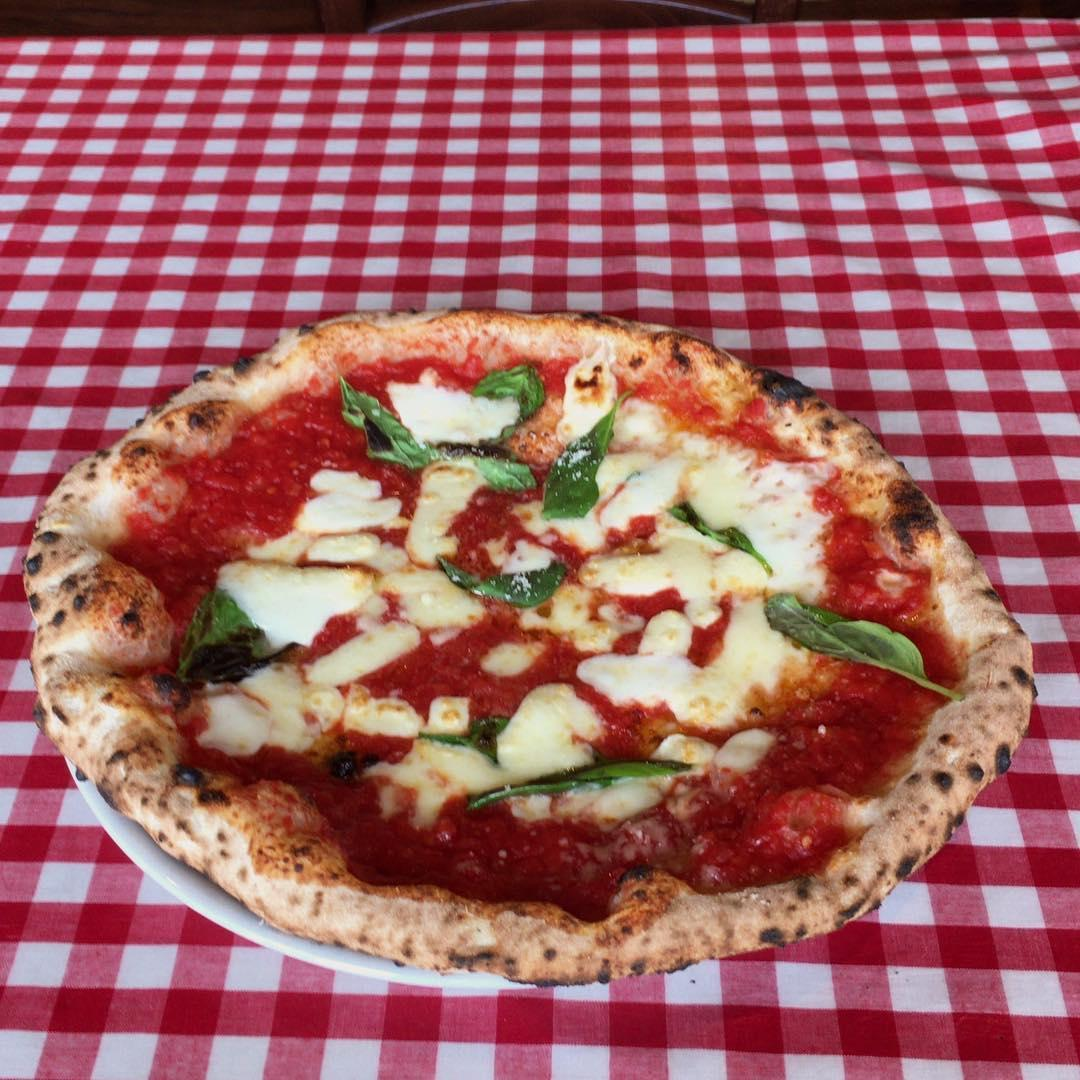Basil: (763, 589, 948, 693), (457, 755, 689, 829), (541, 401, 629, 528), (165, 591, 274, 689), (329, 379, 432, 470), (463, 355, 558, 438), (427, 431, 541, 498), (443, 555, 568, 612), (669, 499, 764, 570), (401, 713, 520, 764)
Cheese: (225, 561, 377, 638), (709, 461, 816, 569), (593, 527, 724, 604), (285, 479, 392, 570), (213, 665, 328, 744), (593, 653, 738, 714), (503, 687, 604, 770), (727, 573, 808, 672), (601, 439, 705, 508), (387, 737, 500, 800), (403, 477, 472, 564), (377, 573, 472, 629)
Pizza: (33, 305, 1002, 984)
